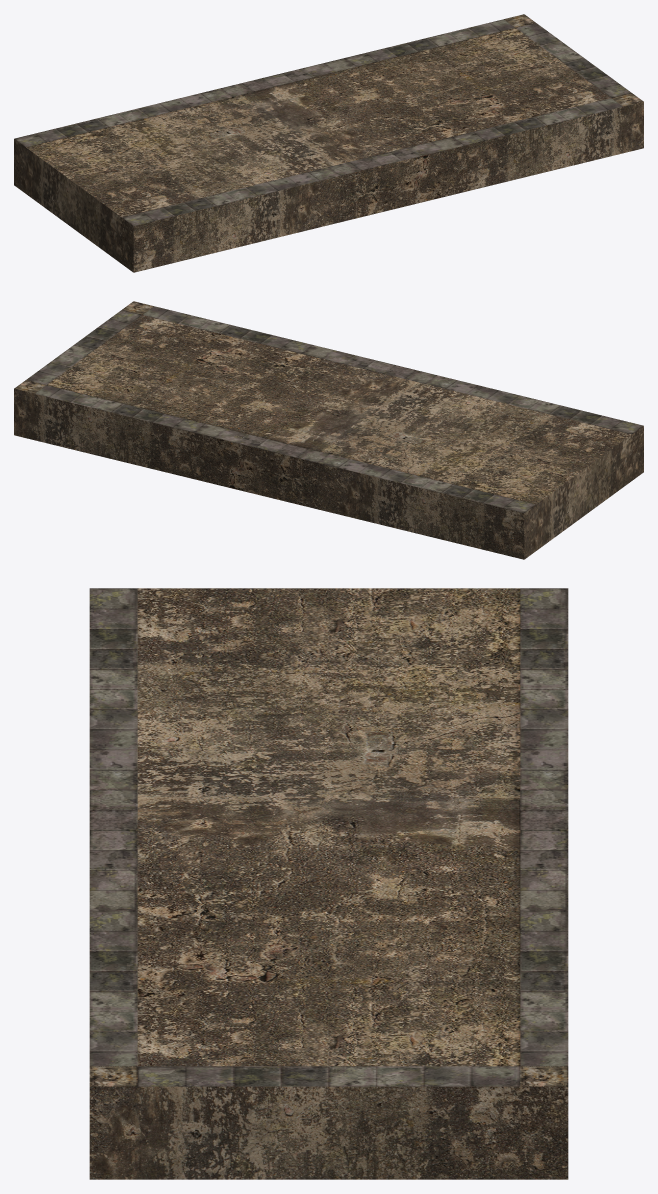
Rendered from materials_5_floor_rectangle_17.fbx.
The picture shows the model from 3 angles, top to bottom: view 1: azimuth 30°, elevation 25°; view 2: azimuth 150°, elevation 25°; view 3: azimuth 270°, elevation 25°; orthographic projection. The views are drawn at different scales.
Parts seen in each view (by area): view 1: materials_5_floor_rectangle_17; view 2: materials_5_floor_rectangle_17; view 3: materials_5_floor_rectangle_17.
Part boxes in pixels (bbox=[...]): materials_5_floor_rectangle_17: bbox=[14, 14, 643, 272]; materials_5_floor_rectangle_17: bbox=[14, 301, 643, 559]; materials_5_floor_rectangle_17: bbox=[89, 588, 568, 1179].
Size of the model in its own units: 492 by 42.89 by 200.
